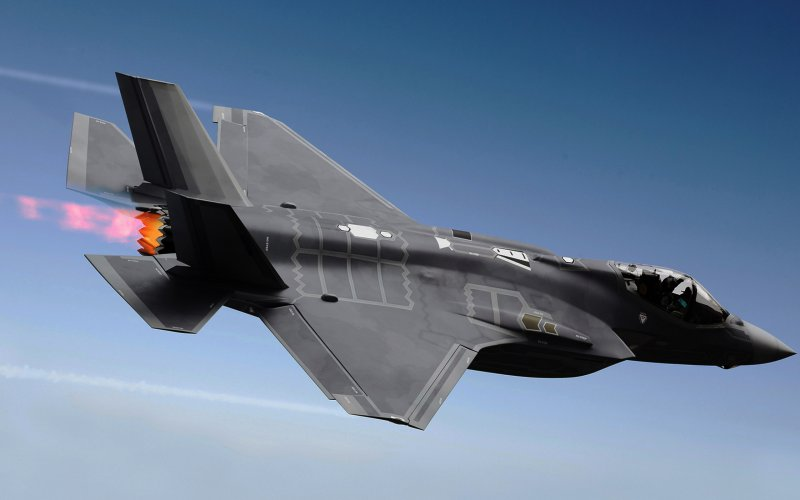F-35 Lightning: (59, 51, 799, 463)
